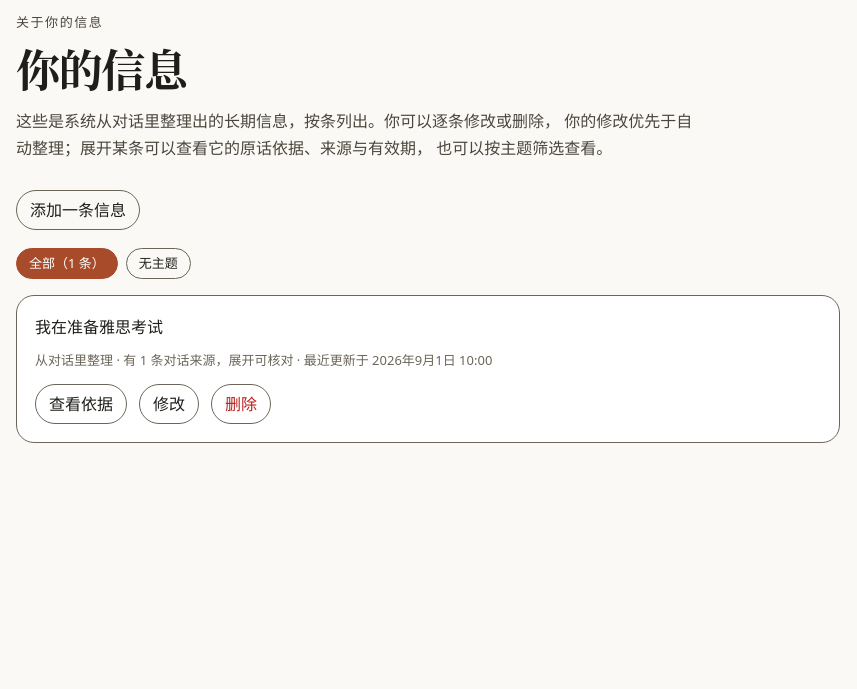
Test case: AtomicProfileCenter › keeps the edit failure message and reloads the list on conflict
Click the button "修改": (169, 404) [139,384,199,424]
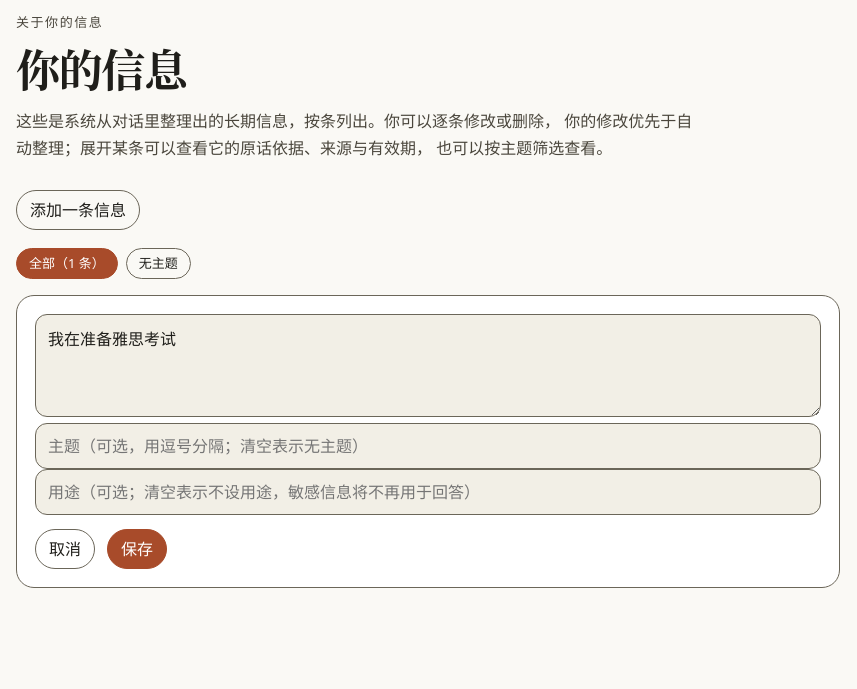
Replace the text in the text box named "长期信息内容" with "改过的内容": (428, 366) [35,314,821,417]
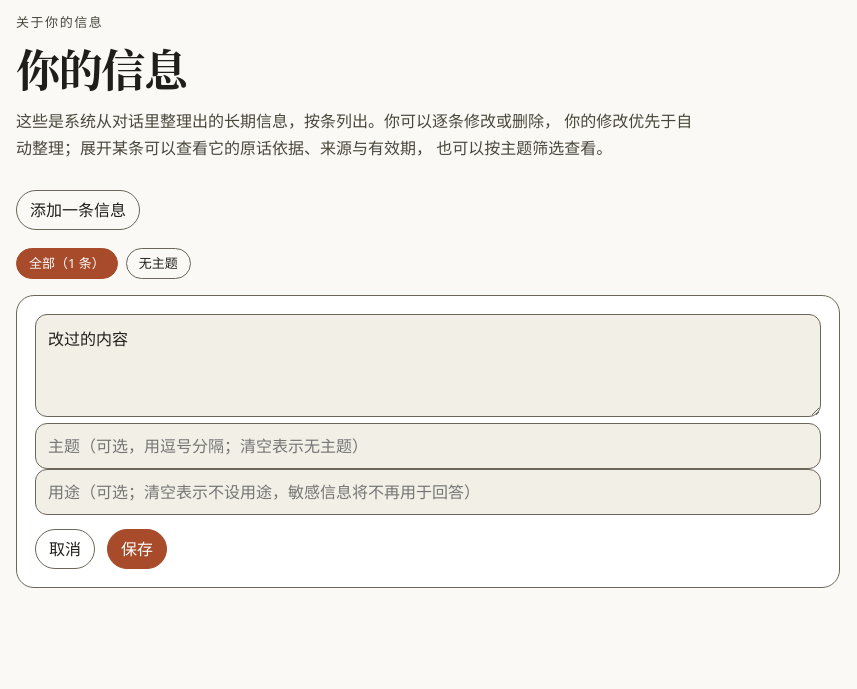
Click the button "保存": (137, 549) [107,529,167,569]
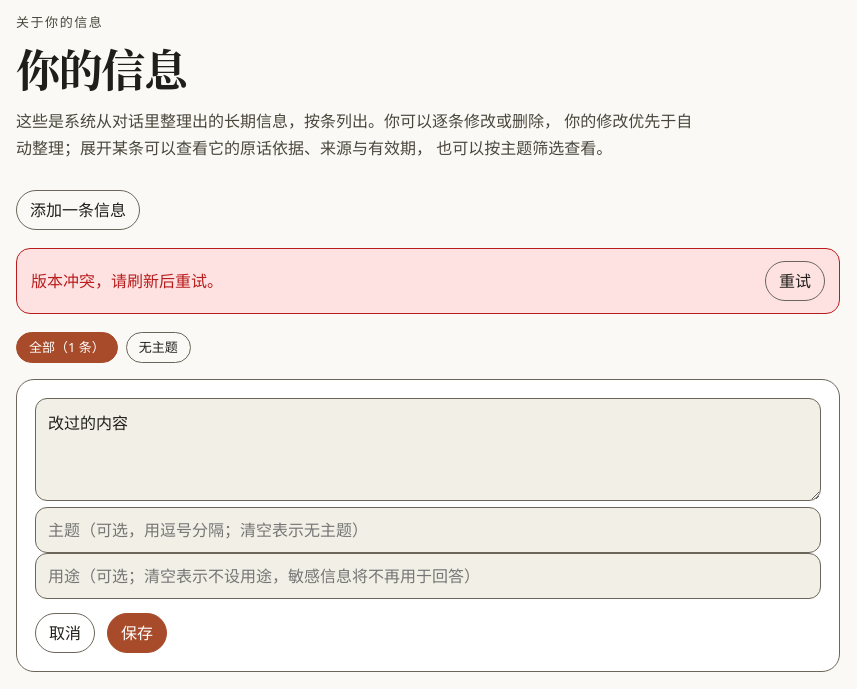
Expected: the message shows "版本冲突", [31,270,223,292]
